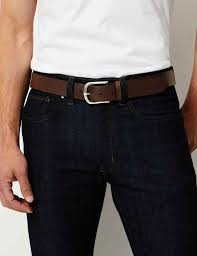F_belt: (20, 65, 188, 108)
F_dress pants: (21, 74, 195, 255)
